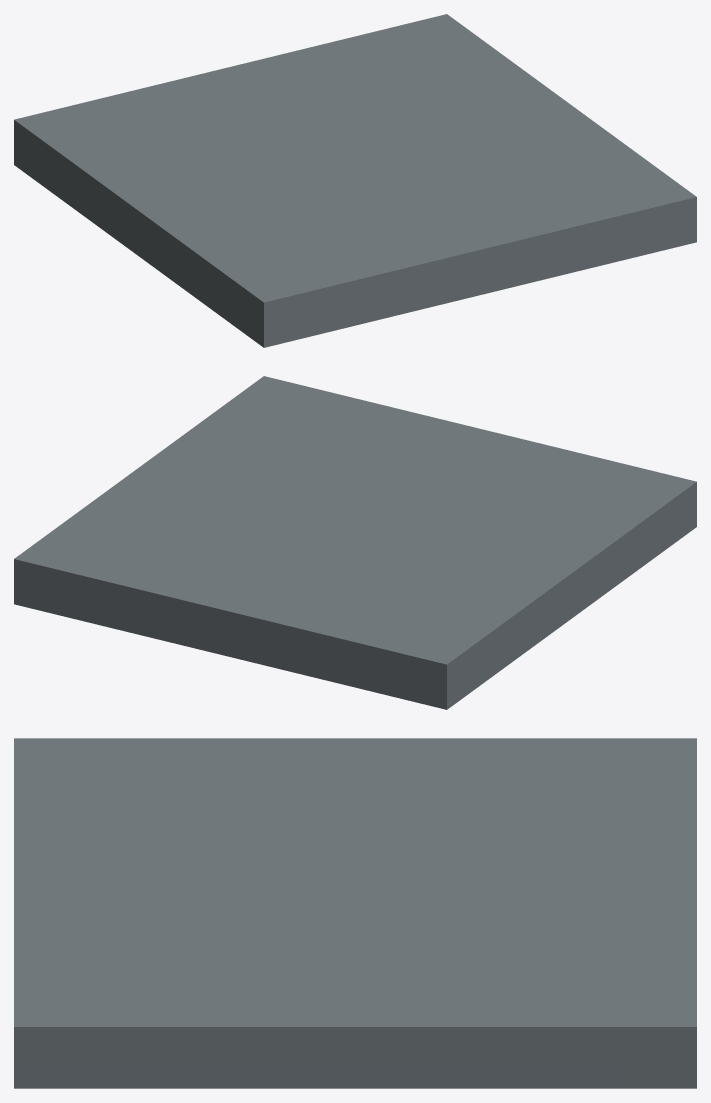
The picture shows the model from 3 angles, top to bottom: view 1: azimuth 30°, elevation 25°; view 2: azimuth 150°, elevation 25°; view 3: azimuth 270°, elevation 25°; orthographic projection. The views are drawn at different scales.
Parts seen in each view (by area): view 1: base_Cube.953; view 2: base_Cube.953; view 3: base_Cube.953.
Boxes of the visible parts, x1,y1,x2,y2 form: base_Cube.953: (14,14,696,347); base_Cube.953: (14,376,696,709); base_Cube.953: (14,738,696,1088).
Size of the model in its own units: 1 by 0.1 by 1.
1 material, 1 textured.
